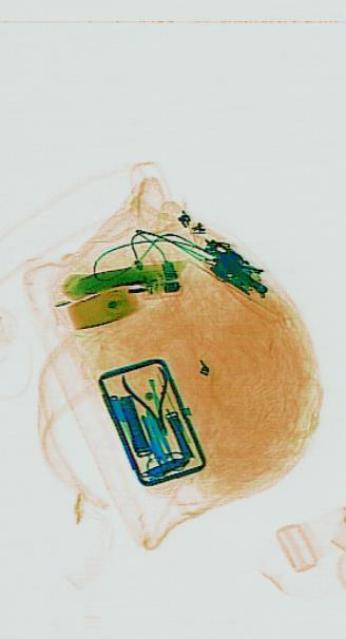Pliers: (119, 346, 177, 452)
